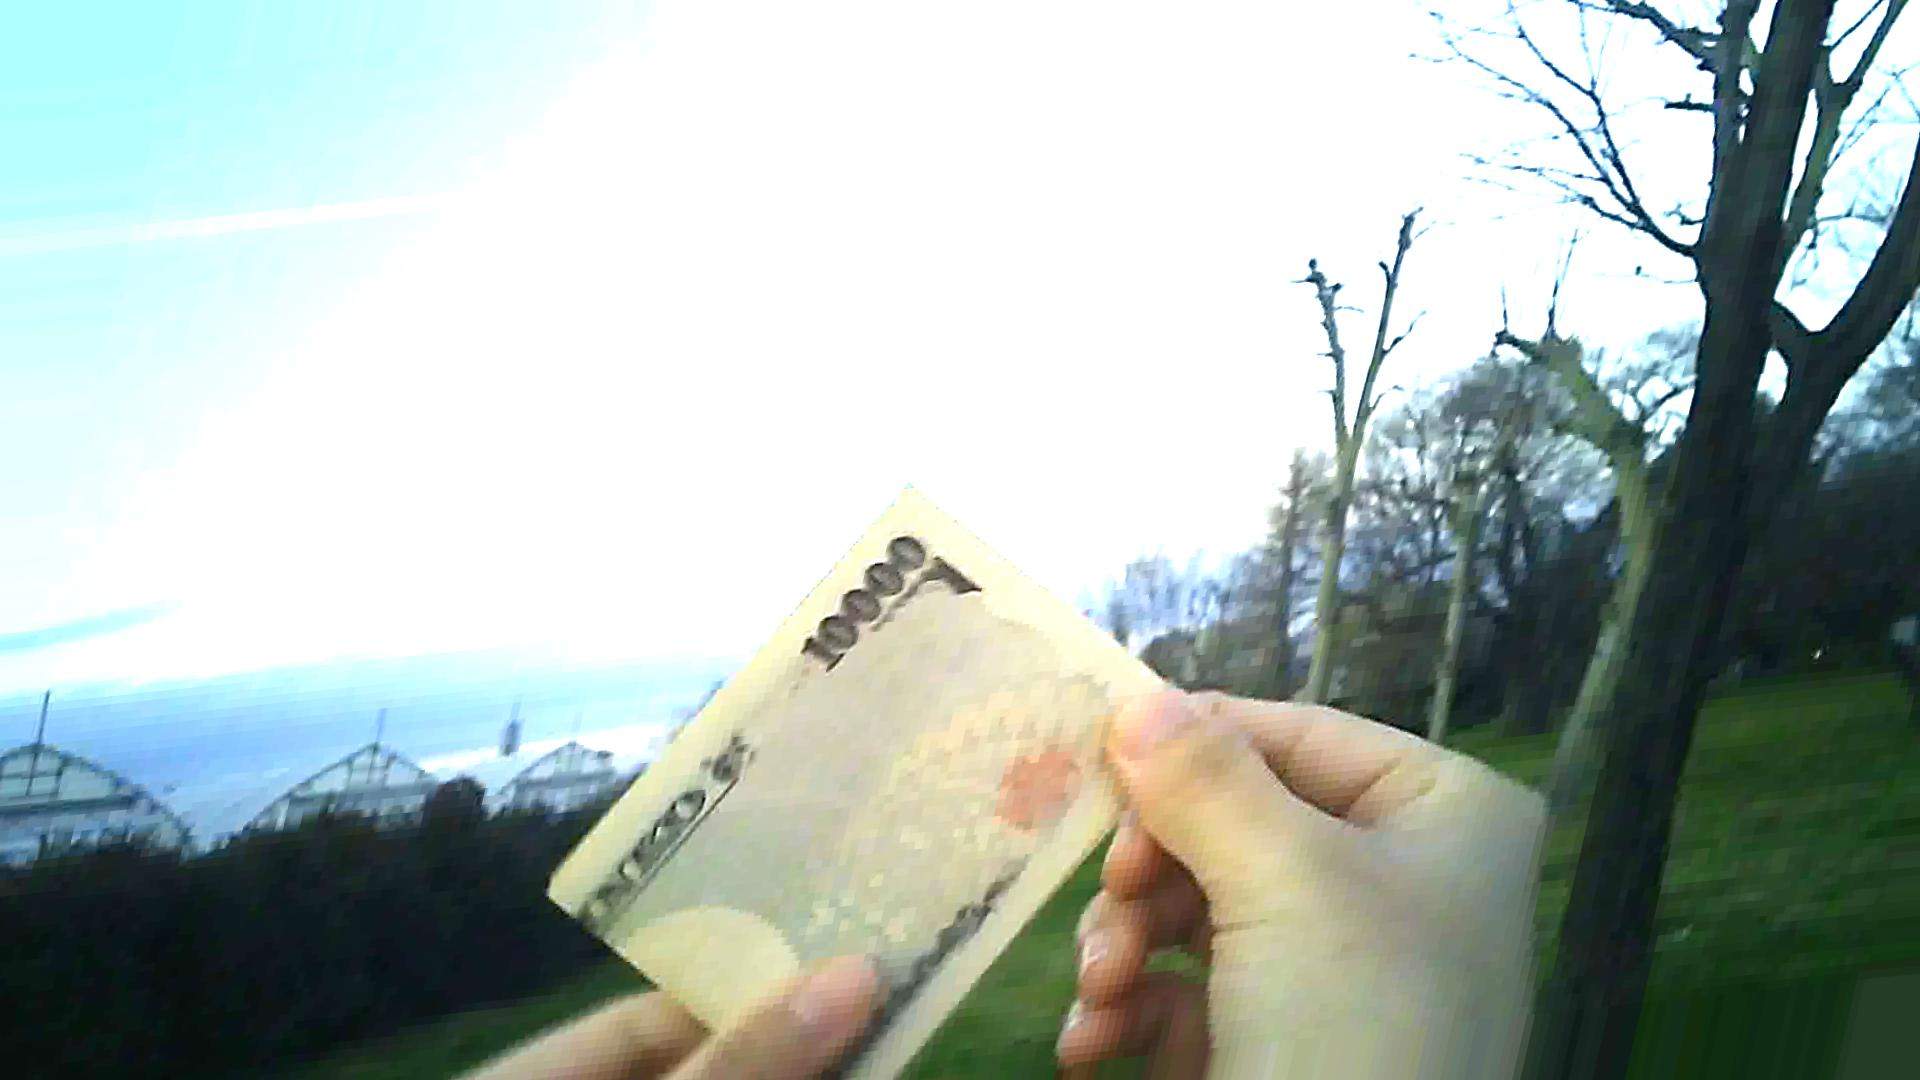10,000 Yen: (562, 498, 1170, 1060)
